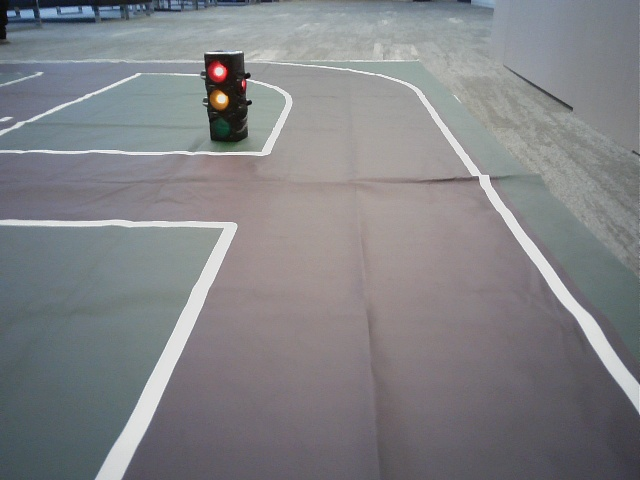red: (205, 55, 234, 137)
